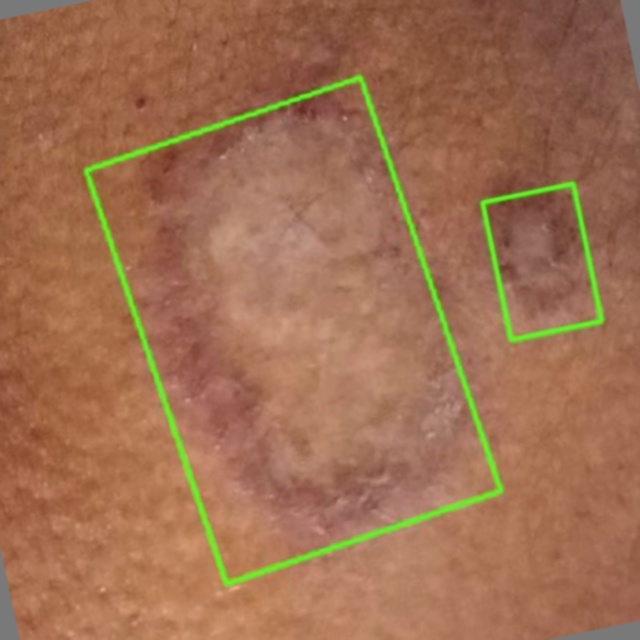Tinea Corporis: (86, 76, 501, 583), (482, 183, 601, 340)
